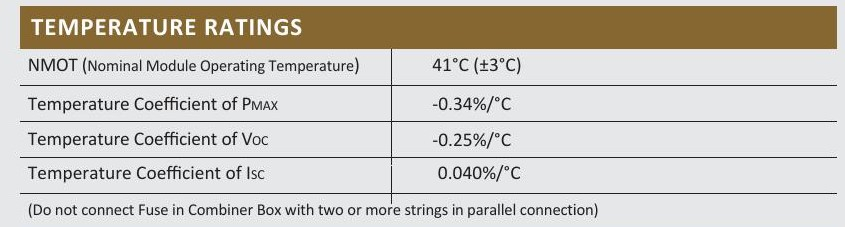table: (11, 41, 845, 200)
table column: (404, 45, 828, 194), (24, 44, 385, 198)
table row: (22, 49, 834, 83), (20, 124, 836, 154), (19, 160, 837, 189), (22, 89, 835, 118)
